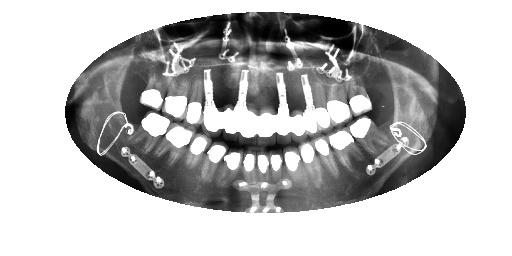Fillings: (323, 69, 353, 123), (353, 115, 391, 157), (163, 119, 193, 169), (296, 142, 324, 192), (162, 72, 190, 121), (135, 113, 170, 151), (330, 129, 363, 169), (183, 71, 205, 128), (347, 73, 375, 116), (220, 147, 247, 189), (138, 70, 164, 111), (283, 149, 307, 191), (186, 130, 208, 175), (207, 137, 225, 187), (313, 137, 337, 173), (267, 147, 285, 191), (241, 149, 259, 189), (257, 151, 272, 187)
Implant: (229, 67, 255, 137), (295, 72, 323, 136), (271, 71, 296, 136), (200, 66, 221, 135)
